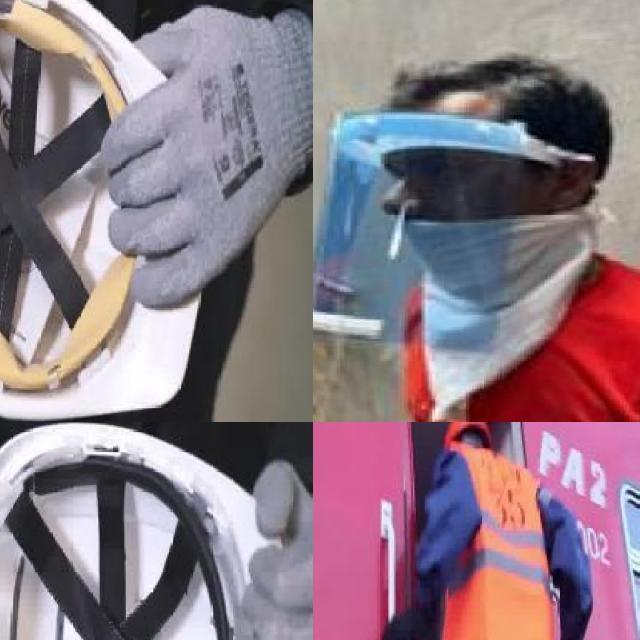apron: (101, 4, 313, 311), (236, 457, 313, 640), (380, 600, 434, 640)
